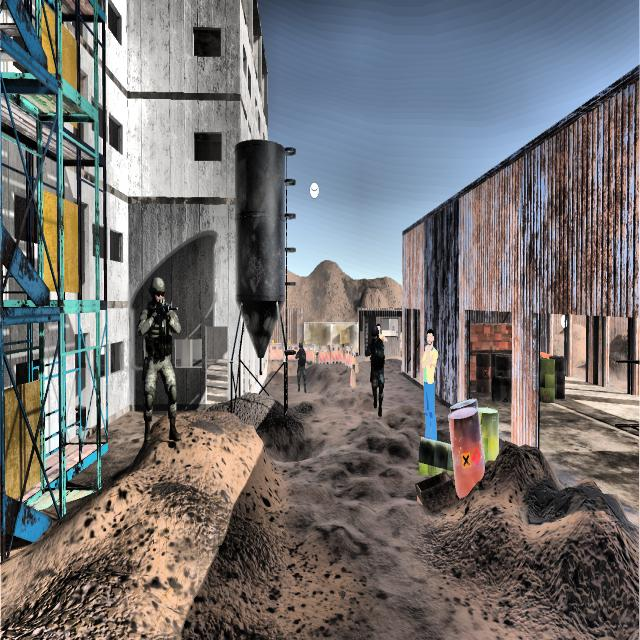bad: (133, 267, 188, 460), (364, 319, 389, 425), (292, 334, 310, 402)
good: (412, 322, 443, 450)
